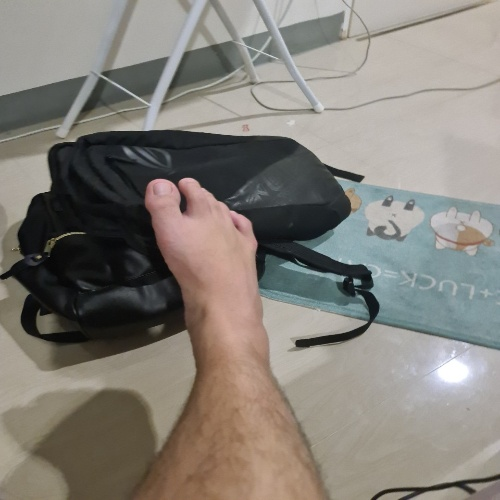3: (144, 174, 184, 220)
Top_Foot: (147, 176, 272, 404)
